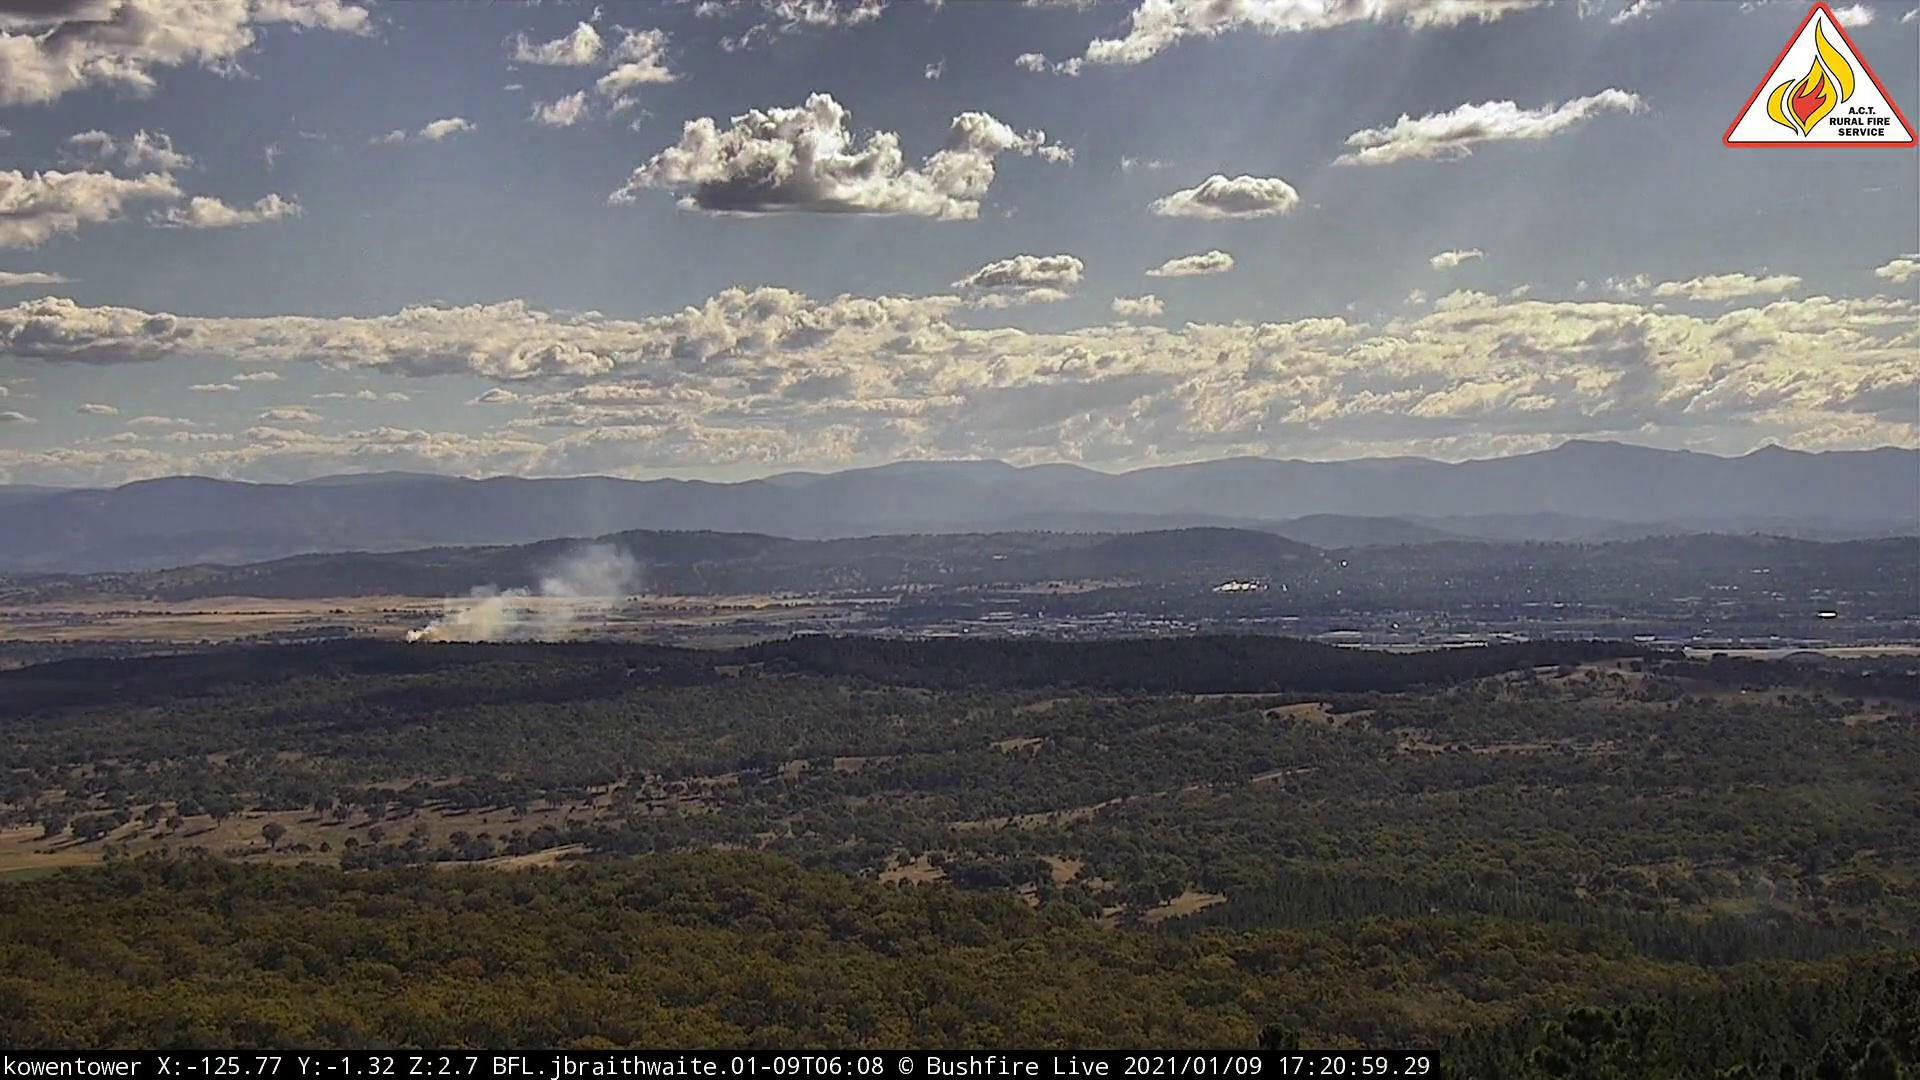instance_salient_object: (393, 522, 647, 655)
